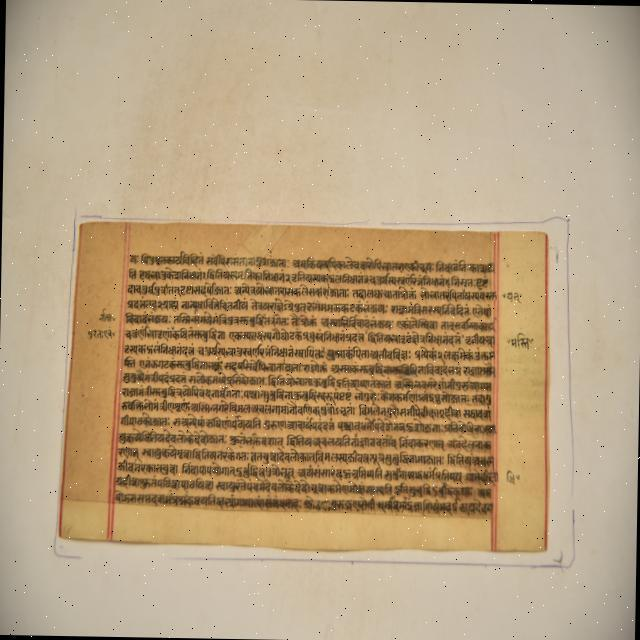text_paragraph: (56, 218, 550, 552)
